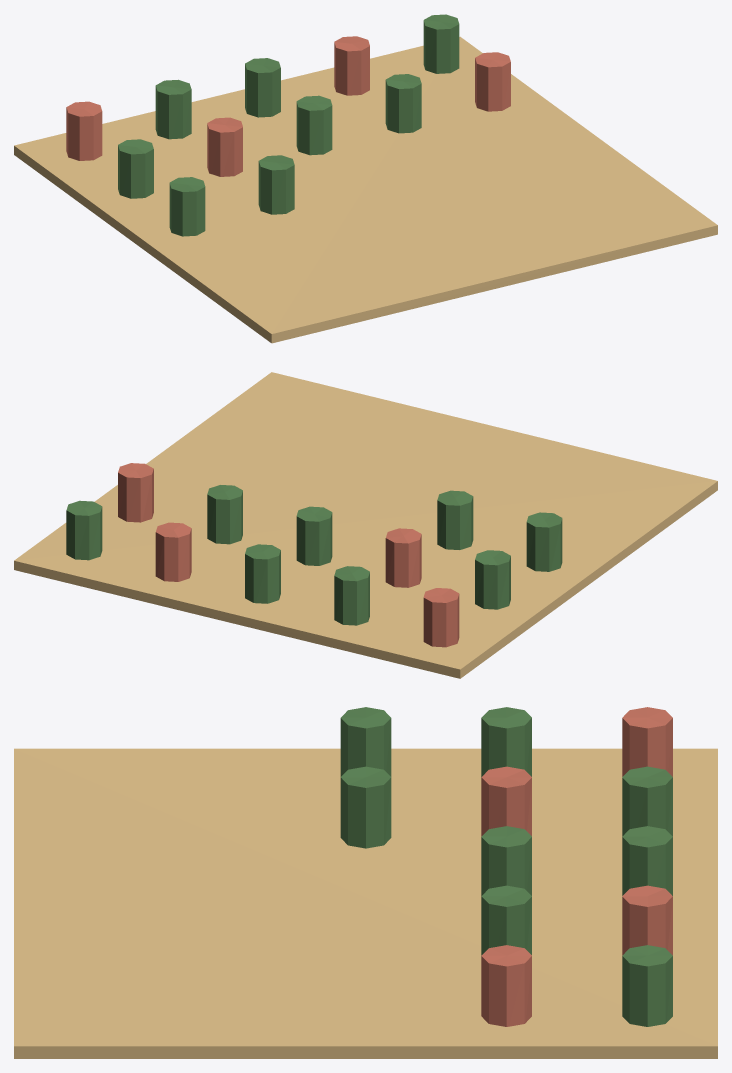
The model's file is Forest-reserve.glb.
3 renders of one model, top to bottom at view 1: azimuth 30°, elevation 25°; view 2: azimuth 150°, elevation 25°; view 3: azimuth 270°, elevation 25°, orthographic. The views are drawn at different scales.
Parts seen in each view (by area): view 1: forest-reserve-static-forest-reserve-earth, forest-reserve-static-forest-reserve-leaf, forest-reserve-static-forest-reserve-flower; view 2: forest-reserve-static-forest-reserve-earth, forest-reserve-static-forest-reserve-leaf, forest-reserve-static-forest-reserve-flower; view 3: forest-reserve-static-forest-reserve-earth, forest-reserve-static-forest-reserve-leaf, forest-reserve-static-forest-reserve-flower.
Part boxes in pixels (x1,y1,x2,y2): forest-reserve-static-forest-reserve-earth: [14, 36, 717, 343]; forest-reserve-static-forest-reserve-leaf: [118, 14, 459, 236]; forest-reserve-static-forest-reserve-flower: [66, 36, 510, 176]; forest-reserve-static-forest-reserve-earth: [14, 372, 717, 678]; forest-reserve-static-forest-reserve-leaf: [66, 485, 562, 625]; forest-reserve-static-forest-reserve-flower: [118, 463, 459, 647]; forest-reserve-static-forest-reserve-earth: [14, 748, 717, 1058]; forest-reserve-static-forest-reserve-leaf: [340, 707, 672, 1026]; forest-reserve-static-forest-reserve-flower: [481, 707, 672, 1026].
Size of the model in its own units: 5 by 0.575 by 5.
